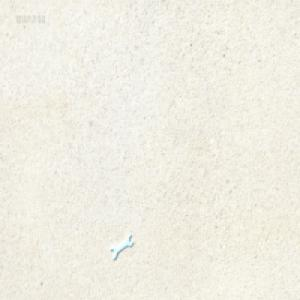Wrench: (110, 231, 133, 259)
